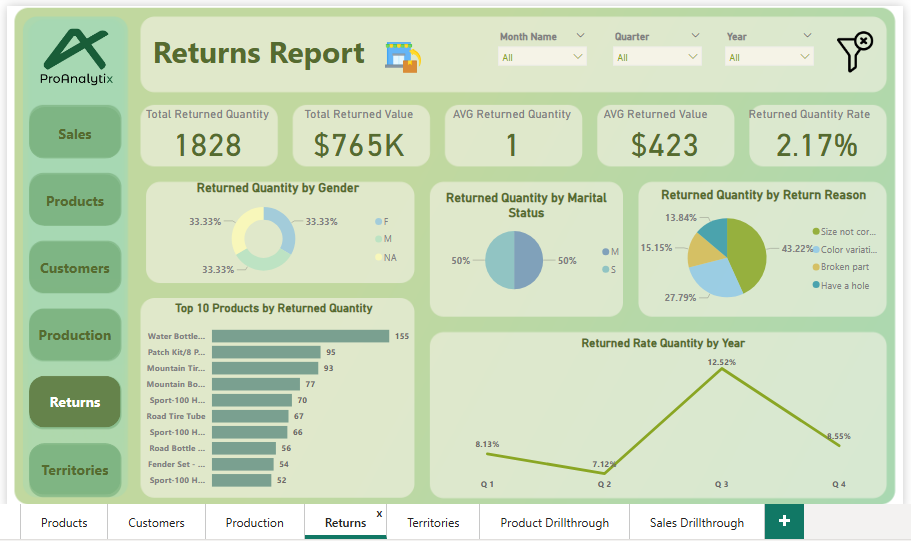

This screenshot's page, from the dashboard's own definition file:
{"tool":"powerbi","page":{"name":" Returns","canvas":[1280,720],"ordinal":4},"visuals":[{"type":"card","title":"Total Returned Quantity","fields":{"Values":["_Measures 1.Total Returns Quantity"]},"box":[192.8,144.6,187.1,79.4],"z":0},{"type":"card","title":"Total Returned Value","fields":{"Values":["_Measures 1.Total Returns Value"]},"box":[409.6,144.6,185.7,79.4],"z":1000},{"type":"card","title":"AVG Returned Quantity","fields":{"Values":["_Measures 1.Avg Returns Quantity"]},"box":[627.9,144.6,185.7,79.4],"z":2000},{"type":"card","title":"AVG Returned Value","fields":{"Values":["_Measures 1.Avg Returns Value"]},"box":[847.6,144.6,185.7,79.4],"z":3000},{"type":"card","title":"Returned Quantity Rate","fields":{"Values":["_Measures 1.Returns Rate by Quantity %"]},"box":[1054.5,144.6,205.5,79.4],"z":4000},{"type":"pieChart","title":"Returned Quantity by Return Reason","fields":{"Category":["Complaints_Returns.Return Reason"],"Y":["_Measures 1.Total Returns Quantity"]},"box":[903.3,258,356.7,181.2],"z":5000},{"type":"clusteredBarChart","title":"Top 10 Products by Returned Quantity","fields":{"Category":["Products.Product Name"],"Y":["_Measures 1.Total Returns Quantity"]},"box":[178.4,421,405.3,279.7],"z":6000},{"type":"donutChart","title":"Returned Quantity by Gender","fields":{"Category":["Customers.Gender"],"Y":["Sum(Complaints_Returns.Return Quantity)"]},"box":[202.6,248.3,368.2,147],"z":7000},{"type":"pieChart","title":"Returned Quantity by Marital Status","fields":{"Category":["Customers.MaritalStatus"],"Y":["_Measures 1.Total Returns Quantity"]},"box":[593.6,262.6,295.4,158.4],"z":8000},{"type":"lineChart","title":"Returned Rate Quantity by Year","fields":{"Category":["Calendar.Year","Calendar.Quarter","Calendar.Month Name"],"Y":["_Measures 1.Returns Rate by Quantity"]},"box":[613.6,470.9,646.4,229.7],"z":9000},{"type":"slicer","fields":{"Values":["Calendar.Year"]},"box":[1015.7,30,147.1,92.9],"z":10000},{"type":"slicer","fields":{"Values":["Calendar.Quarter"]},"box":[855.7,30,147.1,92.9],"z":11000},{"type":"slicer","fields":{"Values":["Calendar.Month Name"]},"box":[691.4,30,147.1,92.9],"z":12000},{"type":"pageNavigator","box":[31,144.3,131,556],"z":13000},{"type":"image","box":[31.2,26.9,134.6,92.1],"z":14000},{"type":"image","box":[1177.8,29.8,69.4,70.9],"z":16000},{"type":"image","box":[534.3,39.7,63,67],"z":17000},{"type":"textbox","box":[202.9,30,327.1,78.6],"z":18000}]}

Visuals, with their boxes on the page's 1280x720 design canvas (x1, y1, x2, y2). These are canvas units, not pixel positions in the 911x541 screenshot, which may show the page scaled, cropped or inside an application window:
"Total Returned Quantity" card: [193, 145, 380, 224]
"Total Returned Value" card: [410, 145, 595, 224]
"AVG Returned Quantity" card: [628, 145, 814, 224]
"AVG Returned Value" card: [848, 145, 1033, 224]
"Returned Quantity Rate" card: [1054, 145, 1260, 224]
"Returned Quantity by Return Reason" pieChart: [903, 258, 1260, 439]
"Top 10 Products by Returned Quantity" clusteredBarChart: [178, 421, 584, 701]
"Returned Quantity by Gender" donutChart: [203, 248, 571, 395]
"Returned Quantity by Marital Status" pieChart: [594, 263, 889, 421]
"Returned Rate Quantity by Year" lineChart: [614, 471, 1260, 701]
slicer - Calendar.Year: [1016, 30, 1163, 123]
slicer - Calendar.Quarter: [856, 30, 1003, 123]
slicer - Calendar.Month Name: [691, 30, 838, 123]
pageNavigator: [31, 144, 162, 700]
image: [31, 27, 166, 119]
image: [1178, 30, 1247, 101]
image: [534, 40, 597, 107]
textbox: [203, 30, 530, 109]
